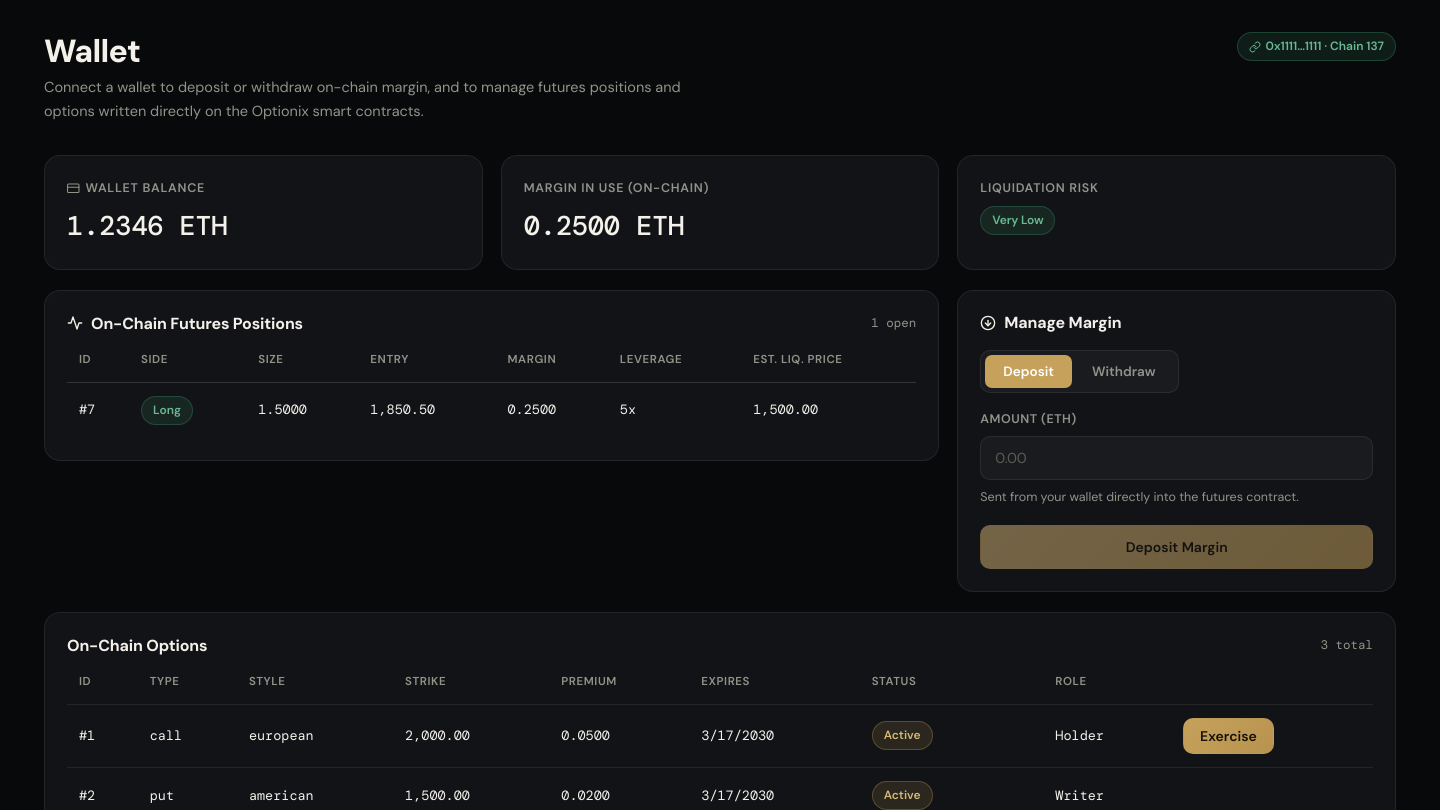
Test: margin and transactions › switches between deposit and withdraw copy
Check: the text "1.2346 ETH" is shown, box x1=67 y1=208 x2=227 y2=243
Check: the text "Sent from your wallet directly into the futures contract." is shown, box x1=980 y1=490 x2=1299 y2=506
Click the button "Withdraw".
click(1124, 372)  # box x1=1074 y1=356 x2=1174 y2=388
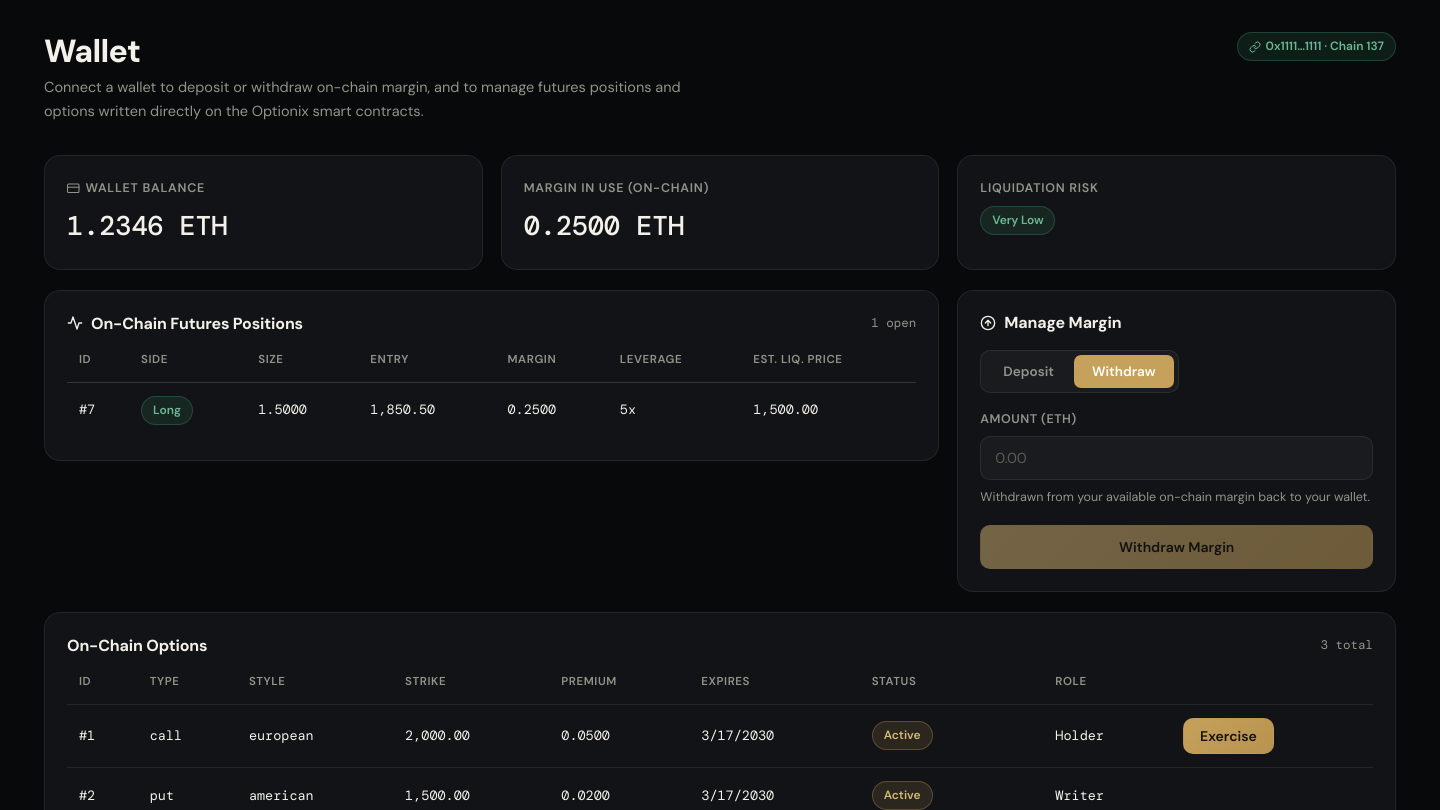
Check: the text "Withdrawn from your available on-chain margin" is shown, box x1=980 y1=490 x2=1370 y2=506
Check: the button "Withdraw Margin" is shown, box x1=980 y1=526 x2=1373 y2=570
